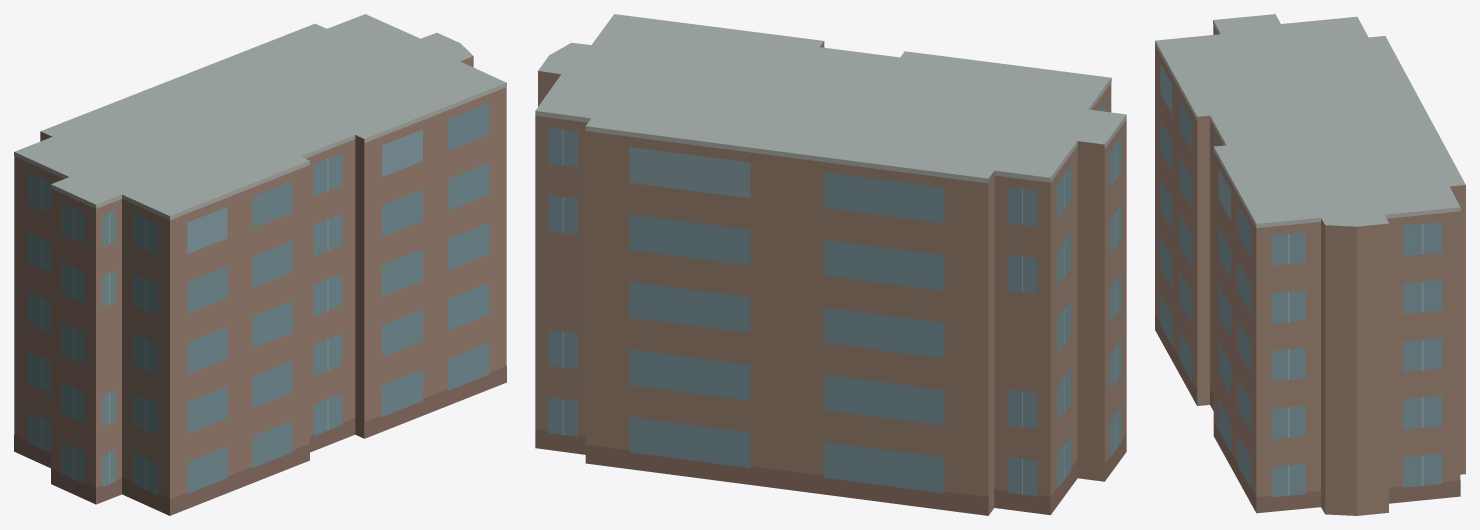
The model's file is survey-upis-32931804.glb.
3 views of the same model, side by side, from view 1: azimuth 30°, elevation 25°; view 2: azimuth 150°, elevation 25°; view 3: azimuth 270°, elevation 25° (orthographic). The views are drawn at different scales.
Parts seen in each view (by area): view 1: survey-upis-32931804.tmp; view 2: survey-upis-32931804.tmp; view 3: survey-upis-32931804.tmp.
Part boxes in pixels (<box>): survey-upis-32931804.tmp: <box>14,14,506,515</box>; survey-upis-32931804.tmp: <box>535,14,1126,515</box>; survey-upis-32931804.tmp: <box>1155,14,1465,515</box>.
Bounding box in the file's own units: 27.12 × 17.2 × 16.76.
